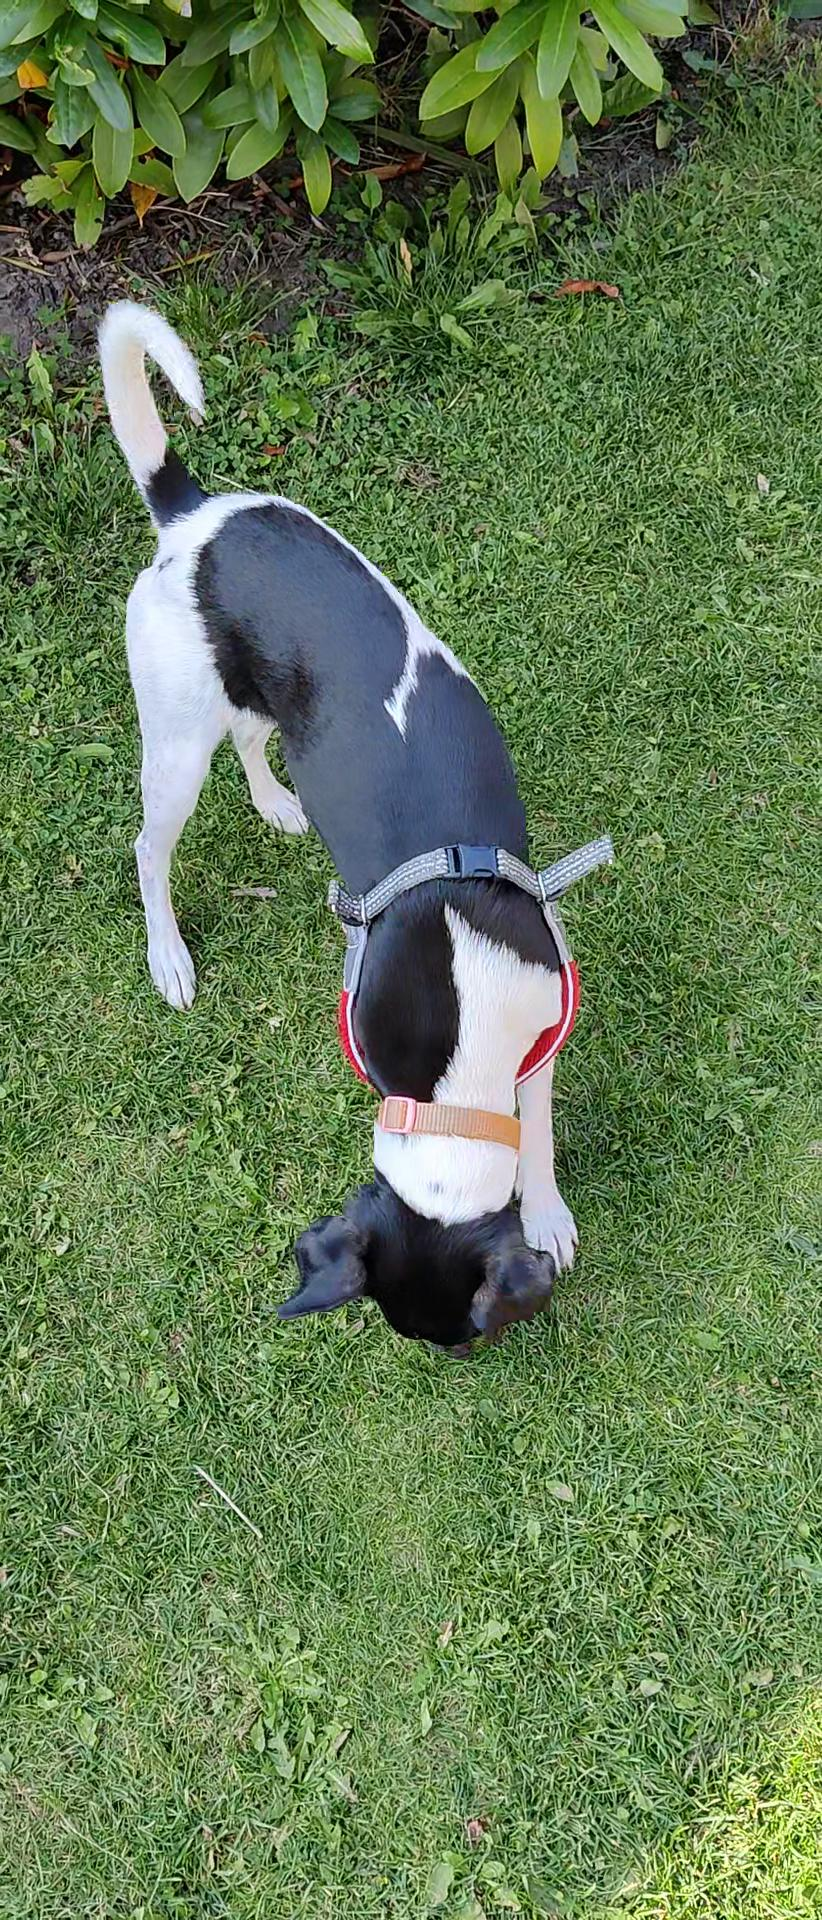Dog: (80, 282, 593, 1374)
